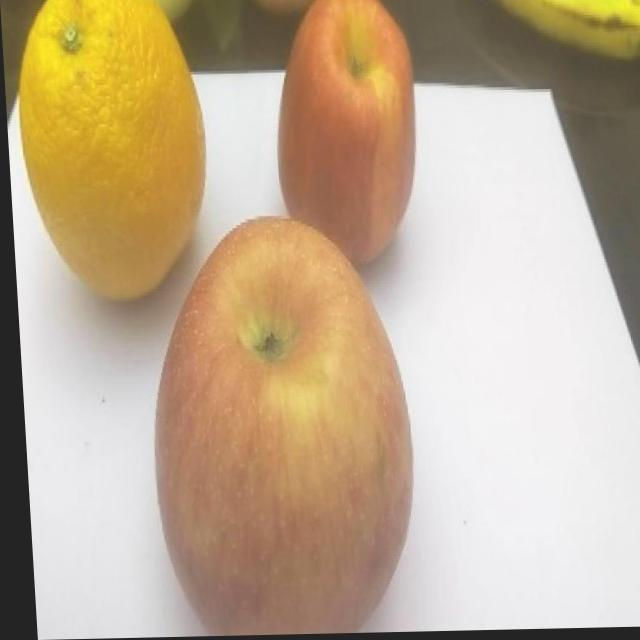Apple: (136, 213, 416, 637), (267, 0, 422, 270)
Orange: (11, 0, 211, 304)
